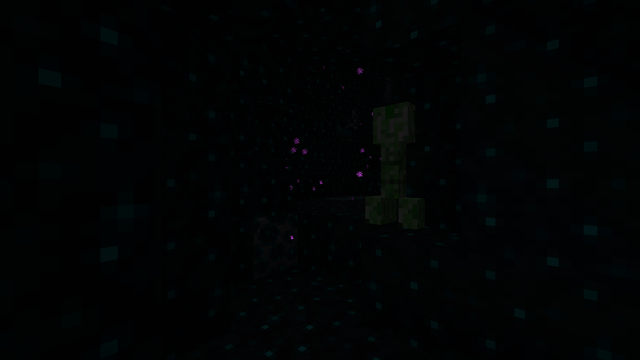creepers: (368, 93, 422, 228)
